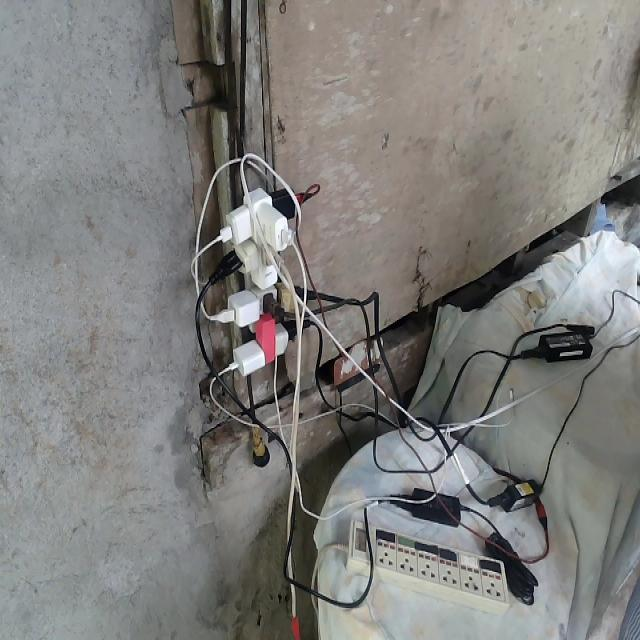-: (205, 183, 315, 377)
